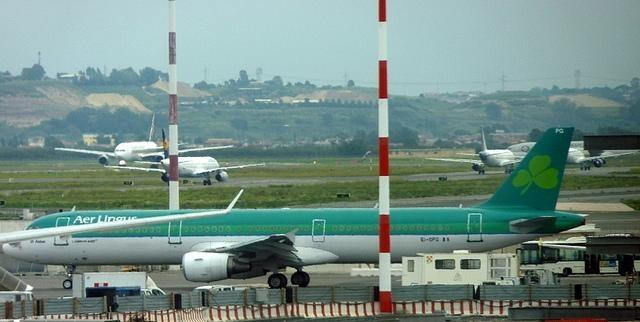bus: (523, 232, 639, 278)
truck: (70, 272, 168, 298)
